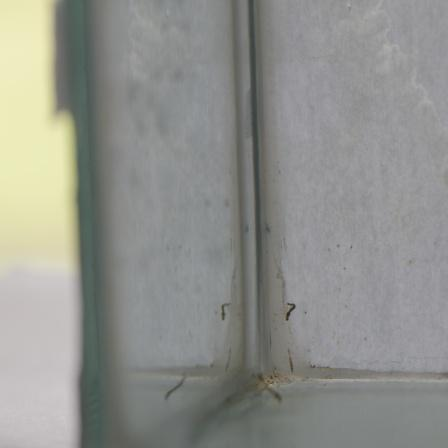Jentik-Nyamuk: (282, 298, 299, 323)
